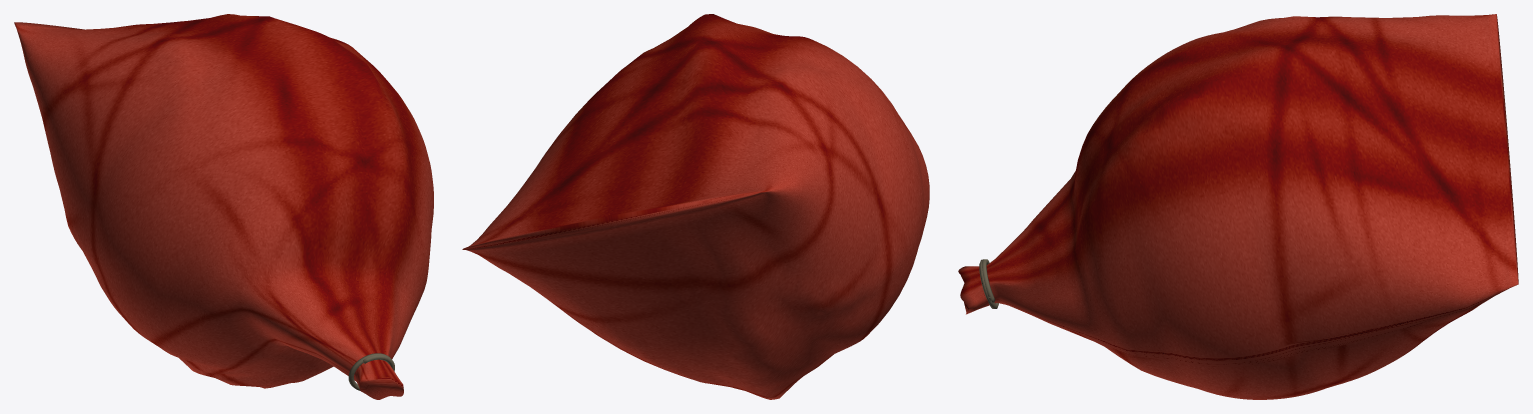
Rendered from peach_00_010.glb.
3 renders of one model, left to right at view 1: azimuth 30°, elevation 25°; view 2: azimuth 150°, elevation 25°; view 3: azimuth 270°, elevation 25°, orthographic. The views are drawn at different scales.
Parts seen in each view (by area): view 1: export_Tree00/shoot1_10_1/bag, export_Tree00/shoot1_10_1/bag/tie; view 2: export_Tree00/shoot1_10_1/bag; view 3: export_Tree00/shoot1_10_1/bag.
Part boxes in pixels (x1,y1,x2,y2): export_Tree00/shoot1_10_1/bag: (14,14,433,399); export_Tree00/shoot1_10_1/bag/tie: (348,353,394,390); export_Tree00/shoot1_10_1/bag: (462,14,929,399); export_Tree00/shoot1_10_1/bag: (958,14,1518,399).
Bounding box in the file's own units: 0.0836 × 0.0851 × 0.1221.
4 materials, 1 textured.
